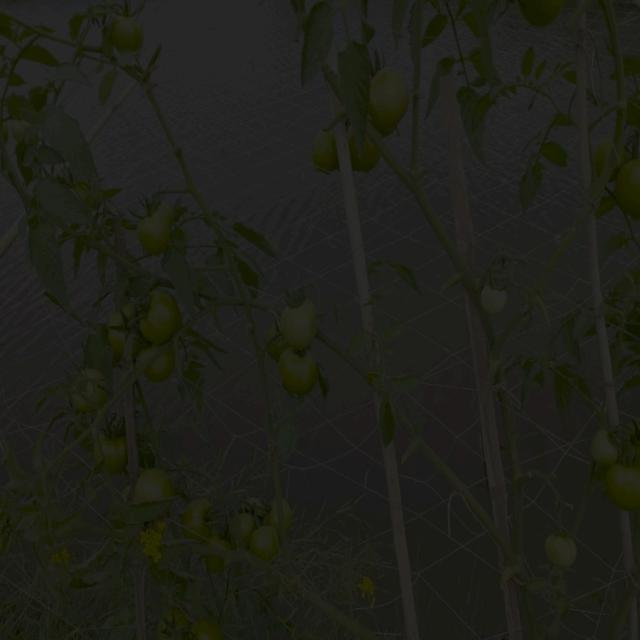tomato: (367, 68, 421, 142), (109, 10, 169, 66), (136, 199, 185, 254), (139, 289, 183, 348), (138, 346, 190, 389), (284, 353, 326, 403), (348, 135, 387, 187), (136, 464, 183, 507), (68, 366, 110, 412), (609, 459, 640, 518), (285, 296, 319, 348), (617, 156, 640, 222), (109, 306, 142, 351), (314, 129, 348, 171), (550, 528, 586, 566), (185, 498, 214, 544), (591, 425, 621, 469), (473, 283, 509, 319), (94, 427, 128, 463), (523, 1, 562, 32), (269, 501, 298, 541), (253, 514, 276, 563), (190, 614, 220, 640), (230, 509, 252, 543), (270, 325, 293, 354), (155, 613, 178, 640), (212, 523, 233, 547)
